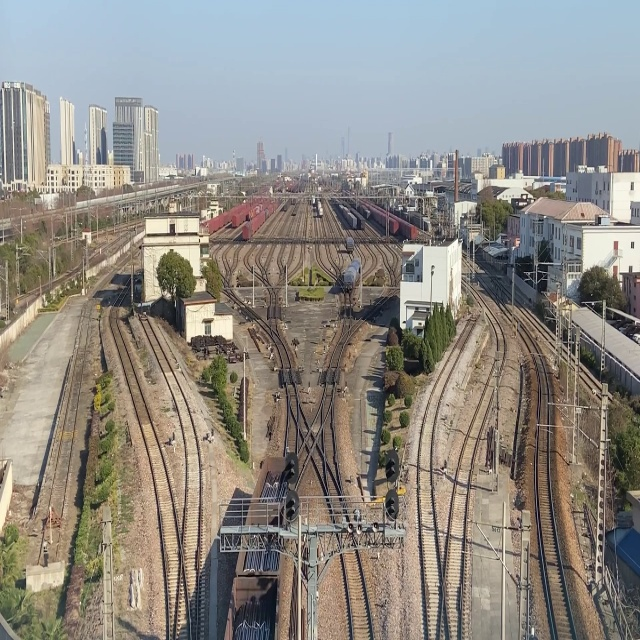train: (226, 446, 287, 638)
